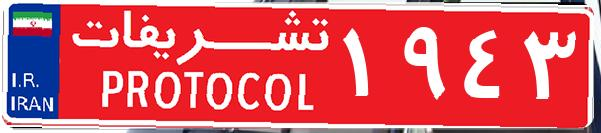1: (340, 20, 400, 115)
3: (520, 20, 580, 115)
4: (460, 20, 520, 115)
9: (400, 20, 460, 115)
تشریفات: (60, 8, 340, 125)
